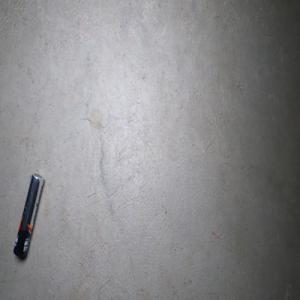Battery: (12, 172, 44, 259)
